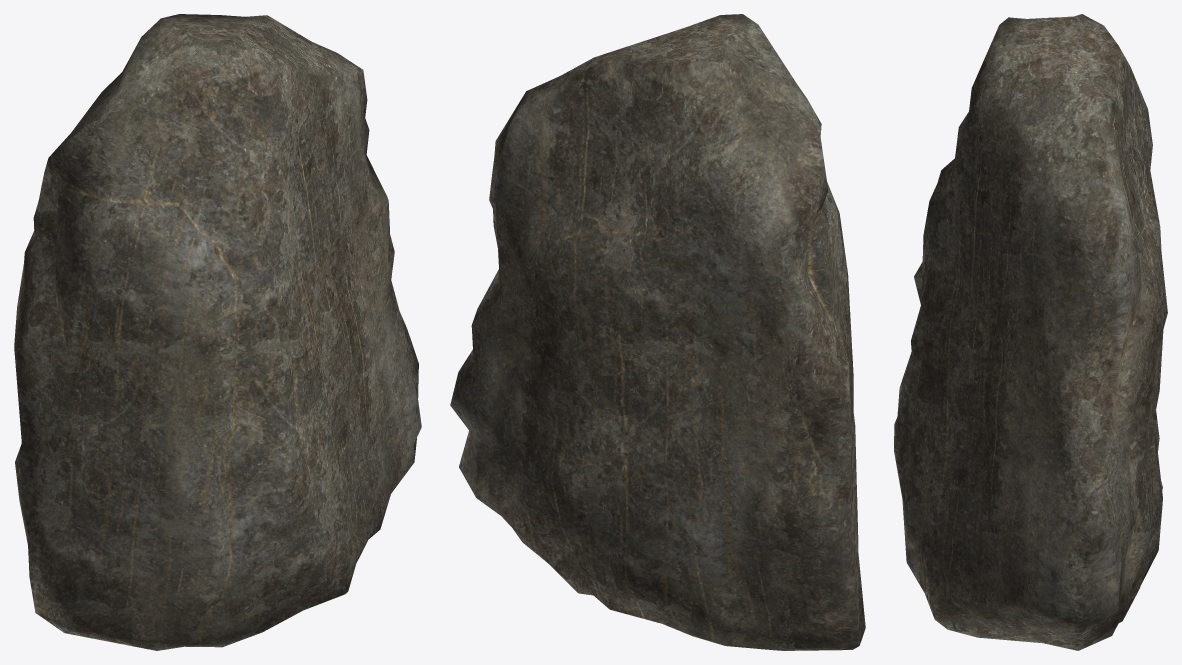
The model's file is Rock5.obj.
3 renders of one model, left to right at view 1: azimuth 30°, elevation 25°; view 2: azimuth 150°, elevation 25°; view 3: azimuth 270°, elevation 25°, orthographic. The views are drawn at different scales.
Parts seen in each view (by area): view 1: Rock_5; view 2: Rock_5; view 3: Rock_5.
Boxes of the visible parts, x1,y1,x2,y2 form: Rock_5: [14, 14, 421, 650]; Rock_5: [450, 14, 865, 650]; Rock_5: [894, 14, 1167, 650].
Bounding box in the file's own units: 0.6413 × 0.896 × 0.381.
